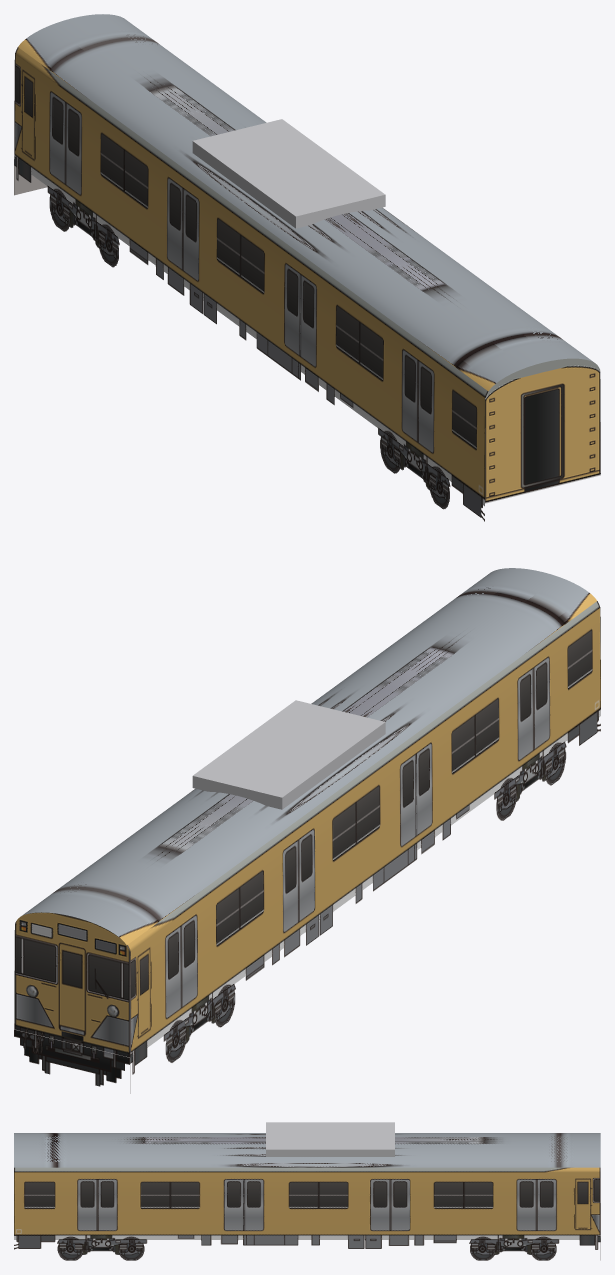
Rendered from car6.glb.
3 renders of one model, top to bottom at view 1: azimuth 30°, elevation 25°; view 2: azimuth 150°, elevation 25°; view 3: azimuth 270°, elevation 25°, orthographic. The views are drawn at different scales.
Visible parts, largest first — view 1: car8.glb; view 2: car8.glb; view 3: car8.glb.
Boxes of the visible parts, bbox=[...] form: car8.glb: bbox=[14, 14, 600, 521]; car8.glb: bbox=[14, 568, 600, 1093]; car8.glb: bbox=[14, 1122, 600, 1260].
Bounding box in the file's own units: 2.85 × 4.03 × 20.01.
Materials: 7 (5 with a texture image).
